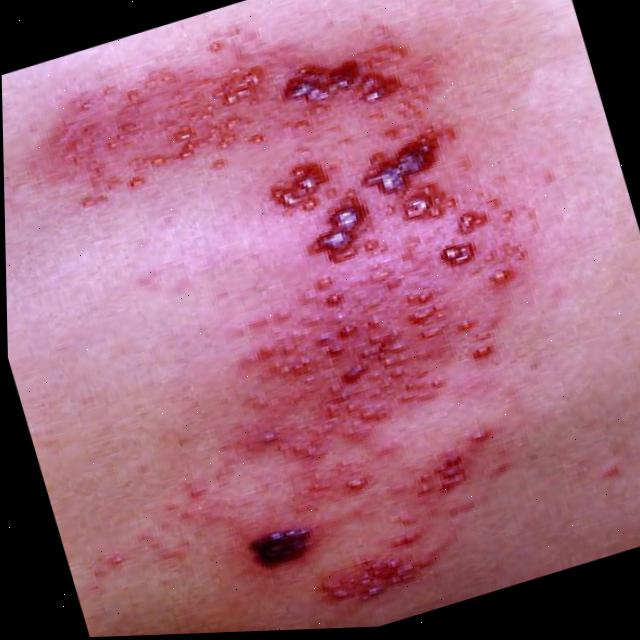Shingles: (42, 0, 580, 637)
